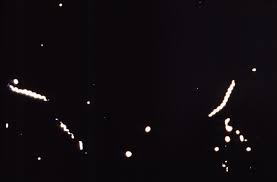sphyillis: (202, 78, 239, 116), (5, 82, 53, 106), (46, 116, 83, 138)
